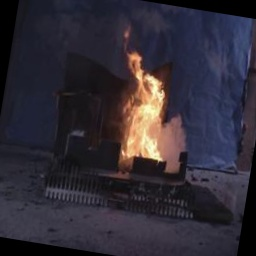fire: (105, 29, 178, 165)
